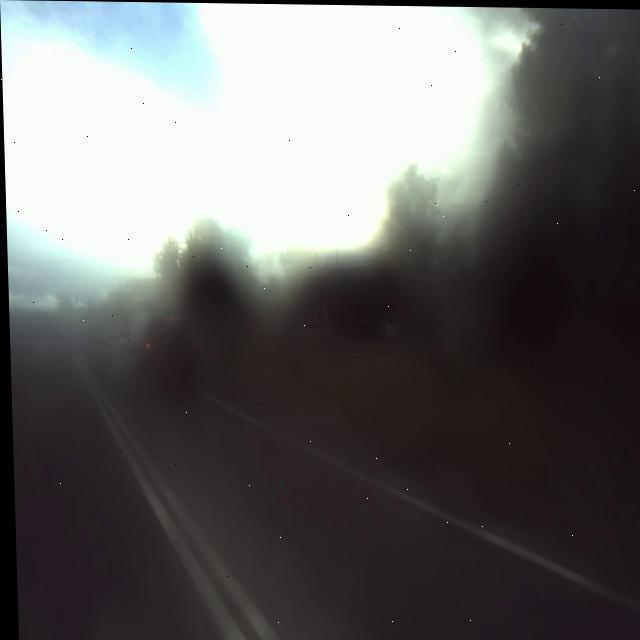car: (134, 304, 201, 402)
